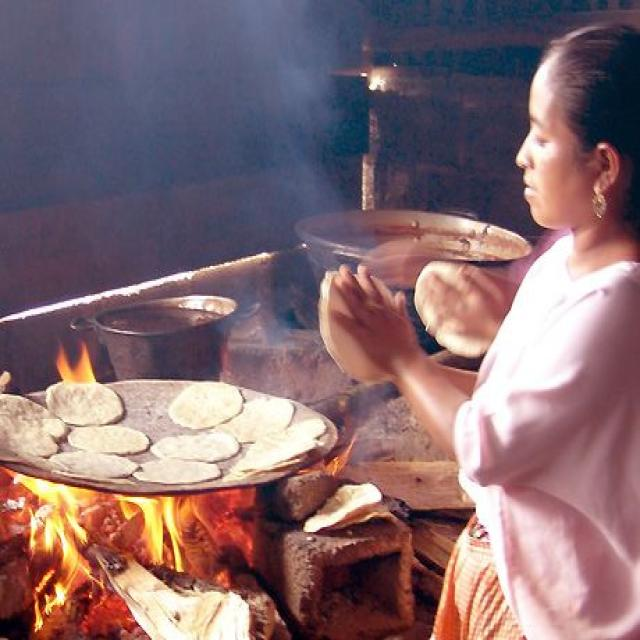fire: (0, 468, 257, 640), (55, 339, 97, 384)
